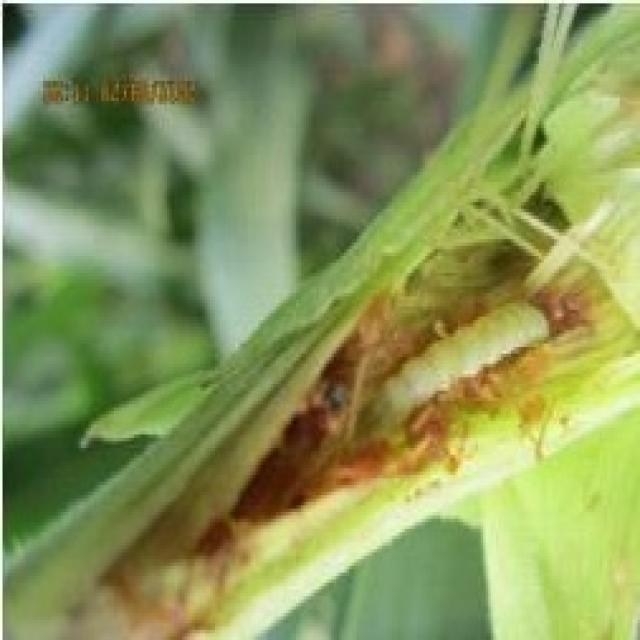peach borer: (368, 296, 560, 427)
